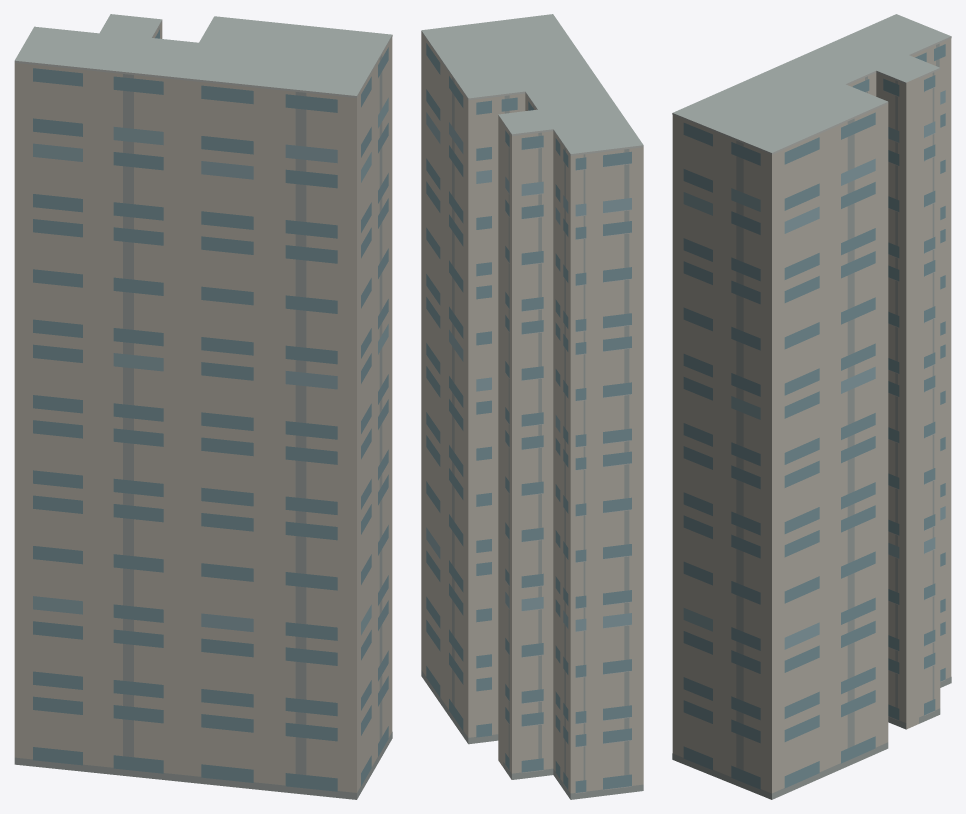
File: residential-1313ddae-d4c6-4c55-bb31-0b4e2d7b12dd.glb
The picture shows the model from 3 angles, left to right: view 1: azimuth 30°, elevation 25°; view 2: azimuth 150°, elevation 25°; view 3: azimuth 270°, elevation 25°; orthographic projection. The views are drawn at different scales.
Visible parts, largest first — view 1: residential-1313ddae-d4c6-4c55-bb31-0b4e2d7b12dd.tmp; view 2: residential-1313ddae-d4c6-4c55-bb31-0b4e2d7b12dd.tmp; view 3: residential-1313ddae-d4c6-4c55-bb31-0b4e2d7b12dd.tmp.
Boxes of the visible parts, x1,y1,x2,y2 form: residential-1313ddae-d4c6-4c55-bb31-0b4e2d7b12dd.tmp: (14, 14, 392, 799); residential-1313ddae-d4c6-4c55-bb31-0b4e2d7b12dd.tmp: (421, 14, 643, 799); residential-1313ddae-d4c6-4c55-bb31-0b4e2d7b12dd.tmp: (672, 14, 951, 799).
Bounding box in the file's own units: 38.28 × 83 × 32.45.
